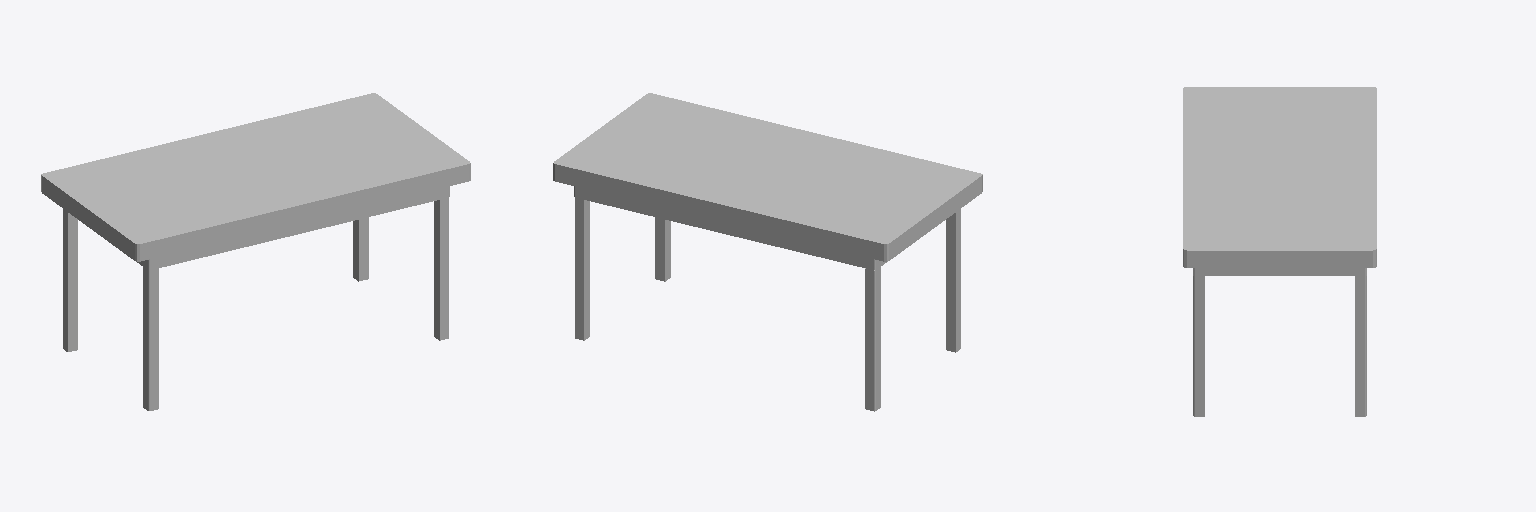
The model's file is Table.obj.
3 renders of one model, left to right at view 1: azimuth 30°, elevation 25°; view 2: azimuth 150°, elevation 25°; view 3: azimuth 270°, elevation 25°, orthographic.
Visible parts, largest first — view 1: Table; view 2: Table; view 3: Table.
Boxes of the visible parts, x1,y1,x2,y2 form: Table: [41, 93, 470, 410]; Table: [553, 93, 982, 411]; Table: [1183, 87, 1376, 416].
Size of the model in its own units: 2 by 0.995 by 1.